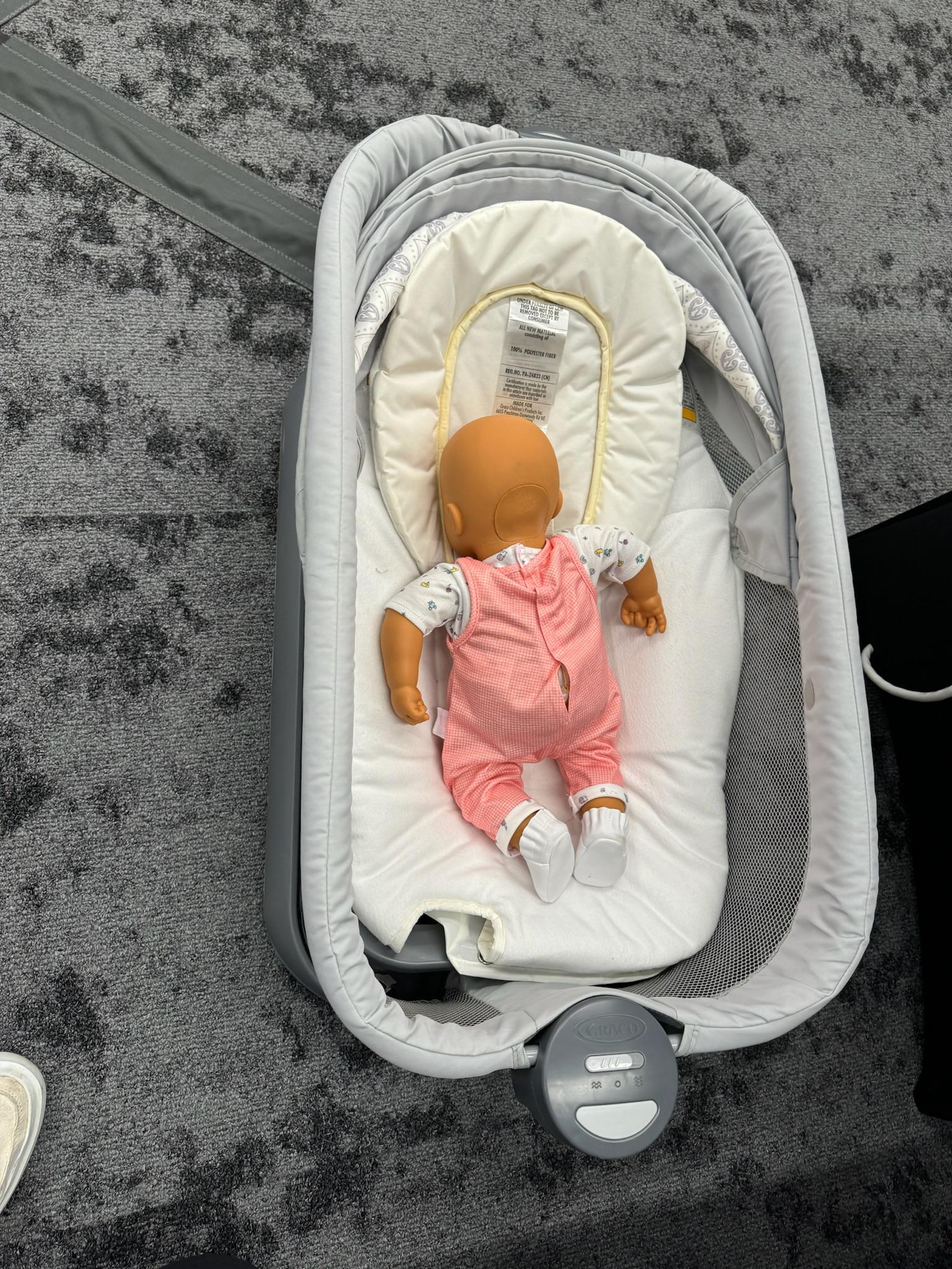baby: (379, 409, 666, 899)
